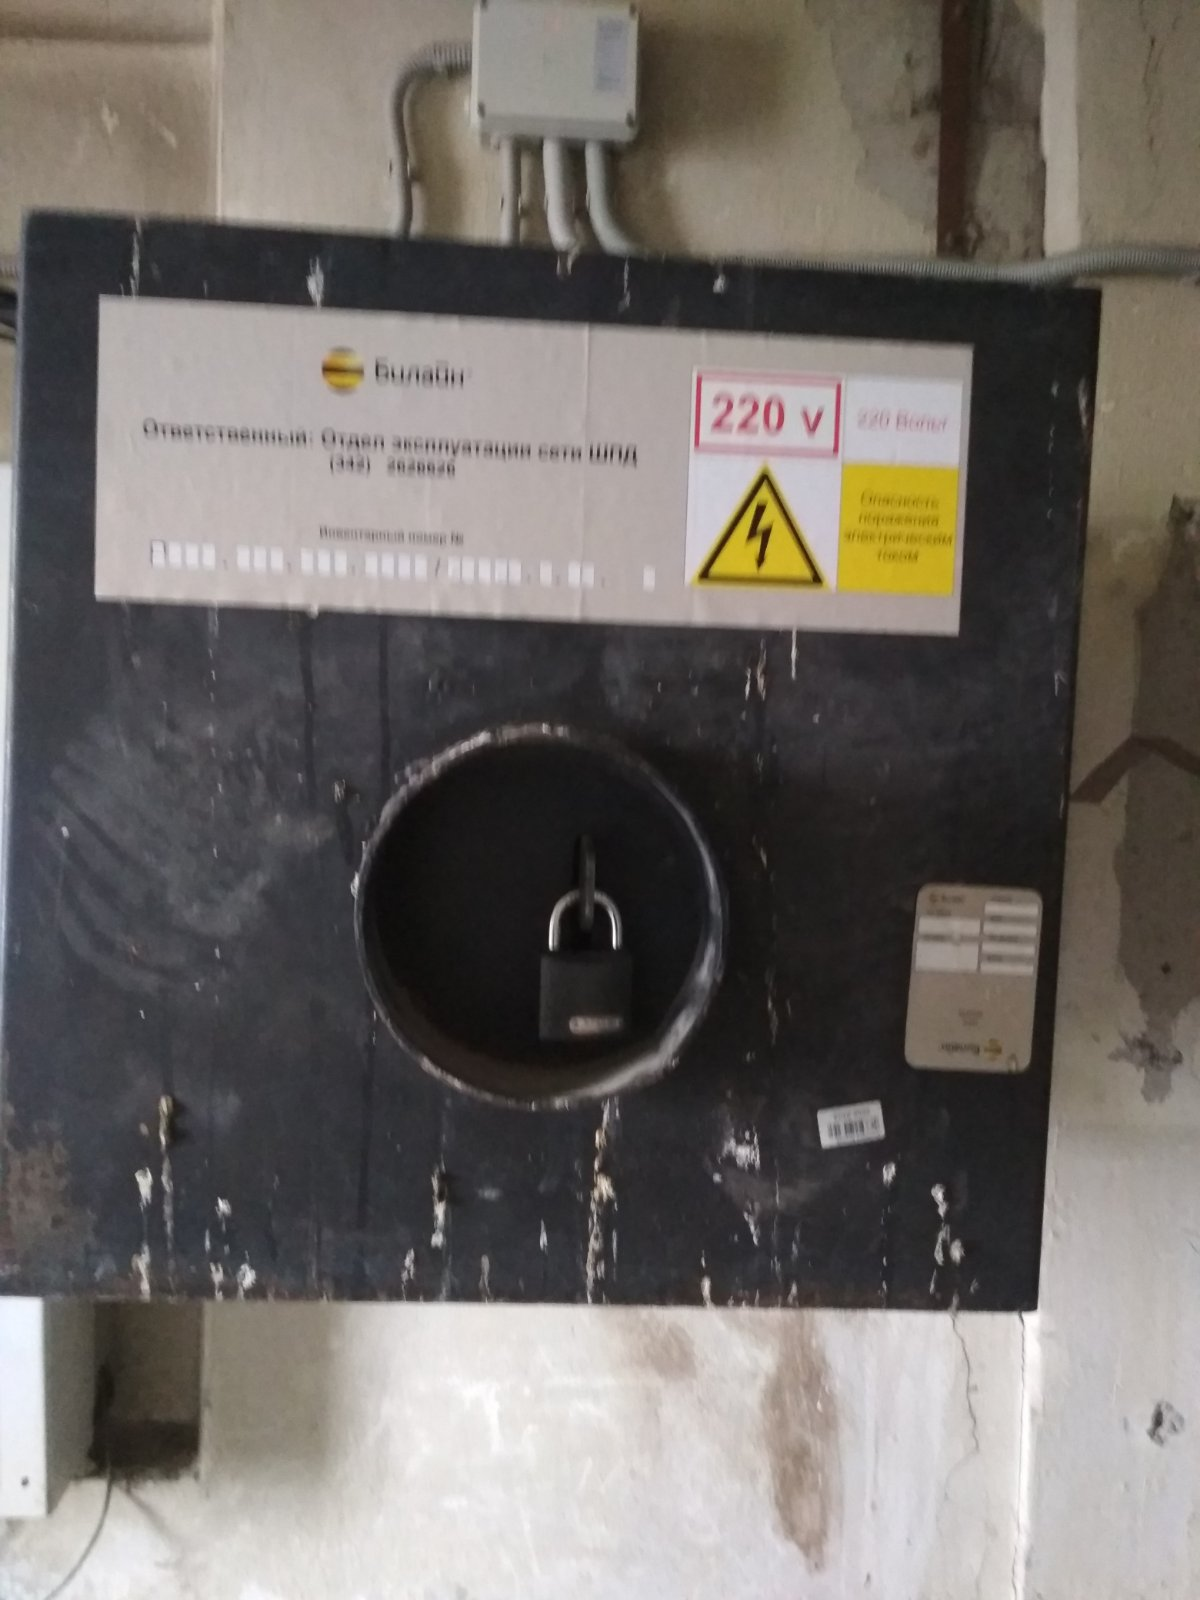shta-9: (9, 193, 1124, 1325)
